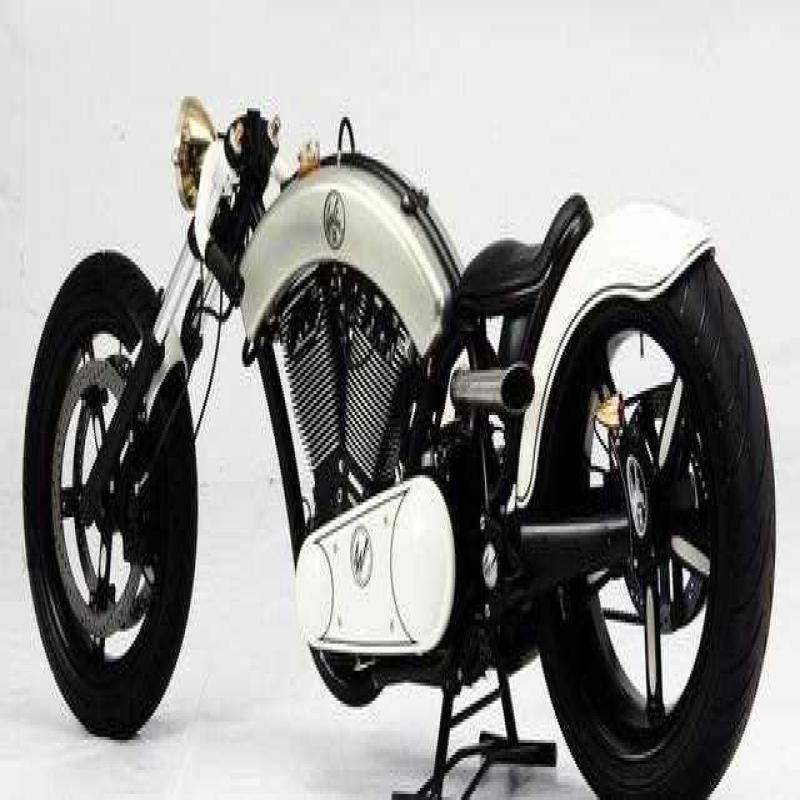bike: (8, 46, 800, 800)
